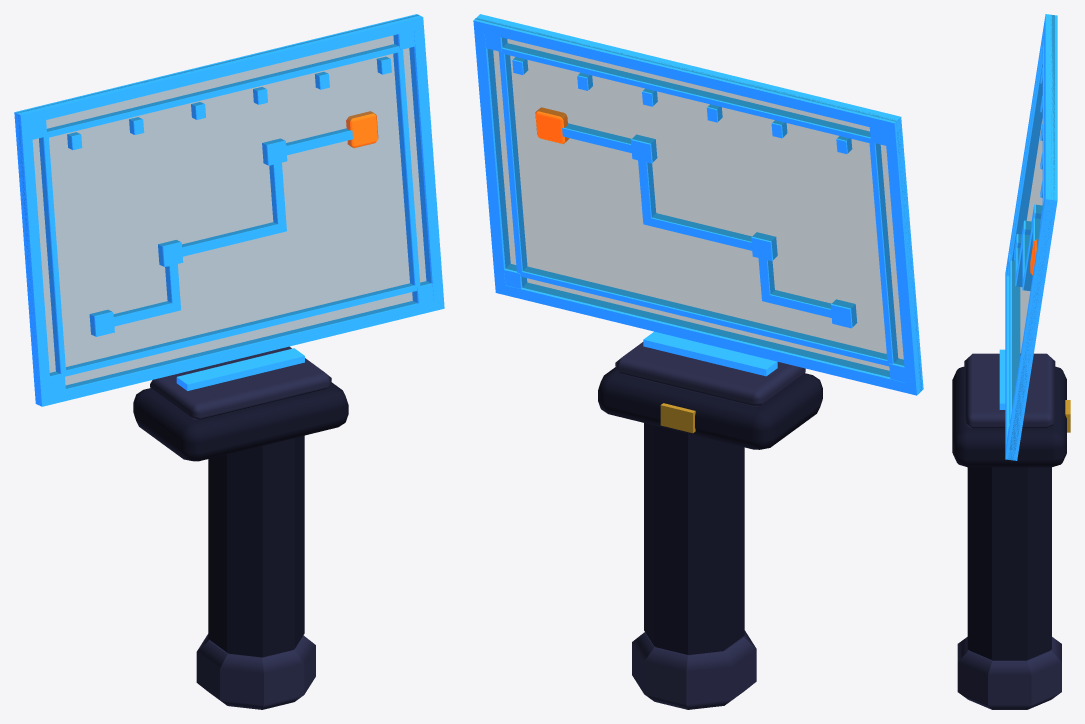
File: holo_tablet.glb
The picture shows the model from 3 angles, left to right: view 1: azimuth 30°, elevation 25°; view 2: azimuth 150°, elevation 25°; view 3: azimuth 270°, elevation 25°; orthographic projection. The views are drawn at different scales.
Visible parts, largest first — view 1: item.holo_tablet.body; view 2: item.holo_tablet.body; view 3: item.holo_tablet.body.
Part boxes in pixels (bbox=[...]): item.holo_tablet.body: bbox=[14, 14, 444, 709]; item.holo_tablet.body: bbox=[473, 14, 923, 709]; item.holo_tablet.body: bbox=[952, 14, 1070, 709].
Size of the model in its own units: 0.4062 by 0.5918 by 0.1094.
